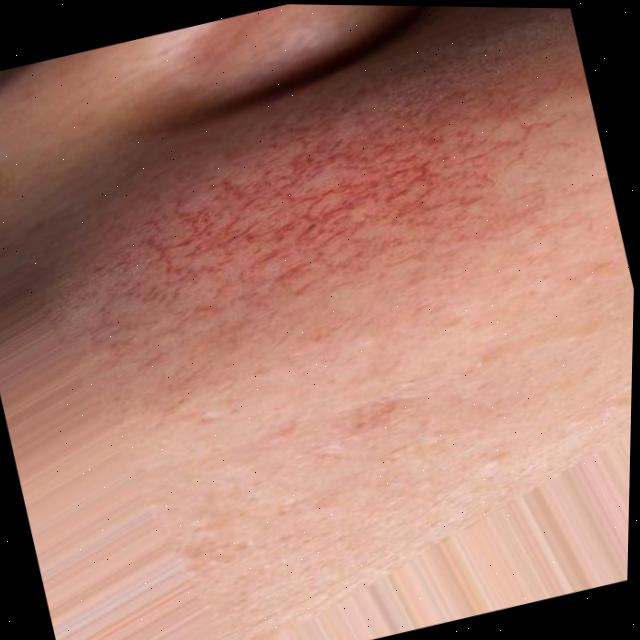Rosacea: (158, 103, 487, 312)
